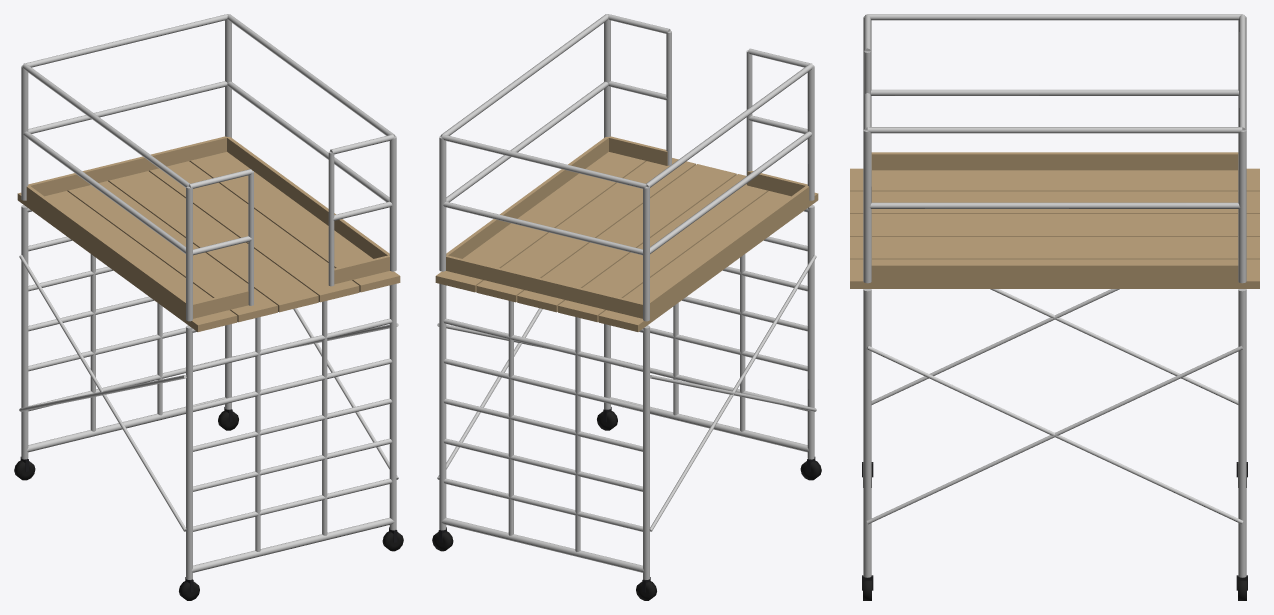
Rendered from scaffold-tower.glb.
3 renders of one model, left to right at view 1: azimuth 30°, elevation 25°; view 2: azimuth 150°, elevation 25°; view 3: azimuth 270°, elevation 25°, orthographic. The views are drawn at different scales.
Parts seen in each view (by area): view 1: galvanized, plank, rubber; view 2: galvanized, plank, rubber; view 3: plank, galvanized.
Part boxes in pixels (x1=…): galvanized: x1=19, y1=14, x2=398, y2=579; plank: x1=17, y1=136, x2=400, y2=331; rubber: x1=14, y1=410, x2=403, y2=600; galvanized: x1=437, y1=14, x2=816, y2=579; plank: x1=435, y1=136, x2=818, y2=331; rubber: x1=432, y1=410, x2=821, y2=600; plank: x1=850, y1=152, x2=1259, y2=288; galvanized: x1=863, y1=14, x2=1246, y2=577.
Bounding box in the file's own units: 1.65 × 2.97 × 2.33.
